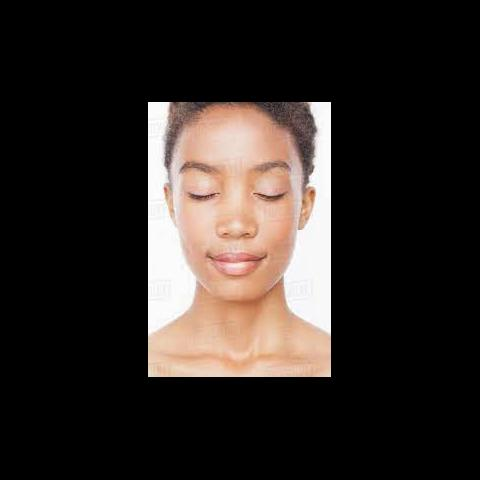closed: (175, 158, 297, 209)
